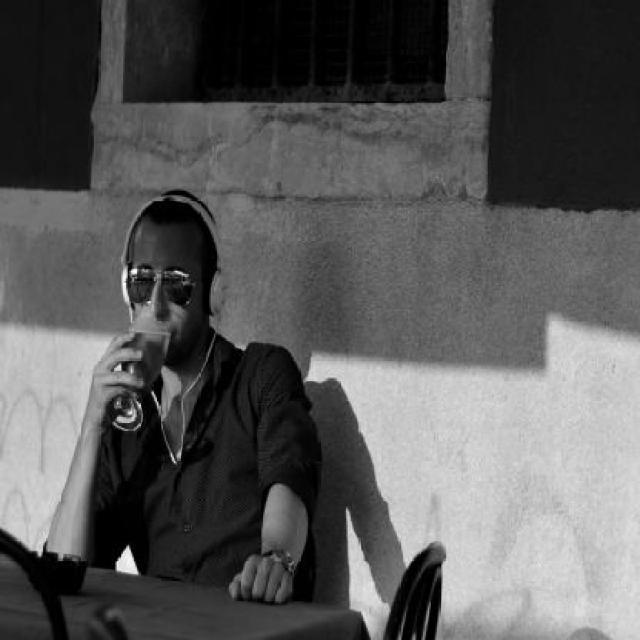earphone: (168, 190, 247, 327)
watch: (270, 536, 312, 592)
